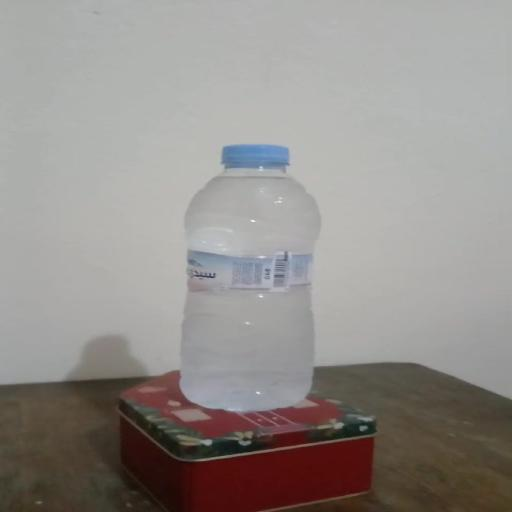bouteille conformite: (79, 114, 335, 412)
